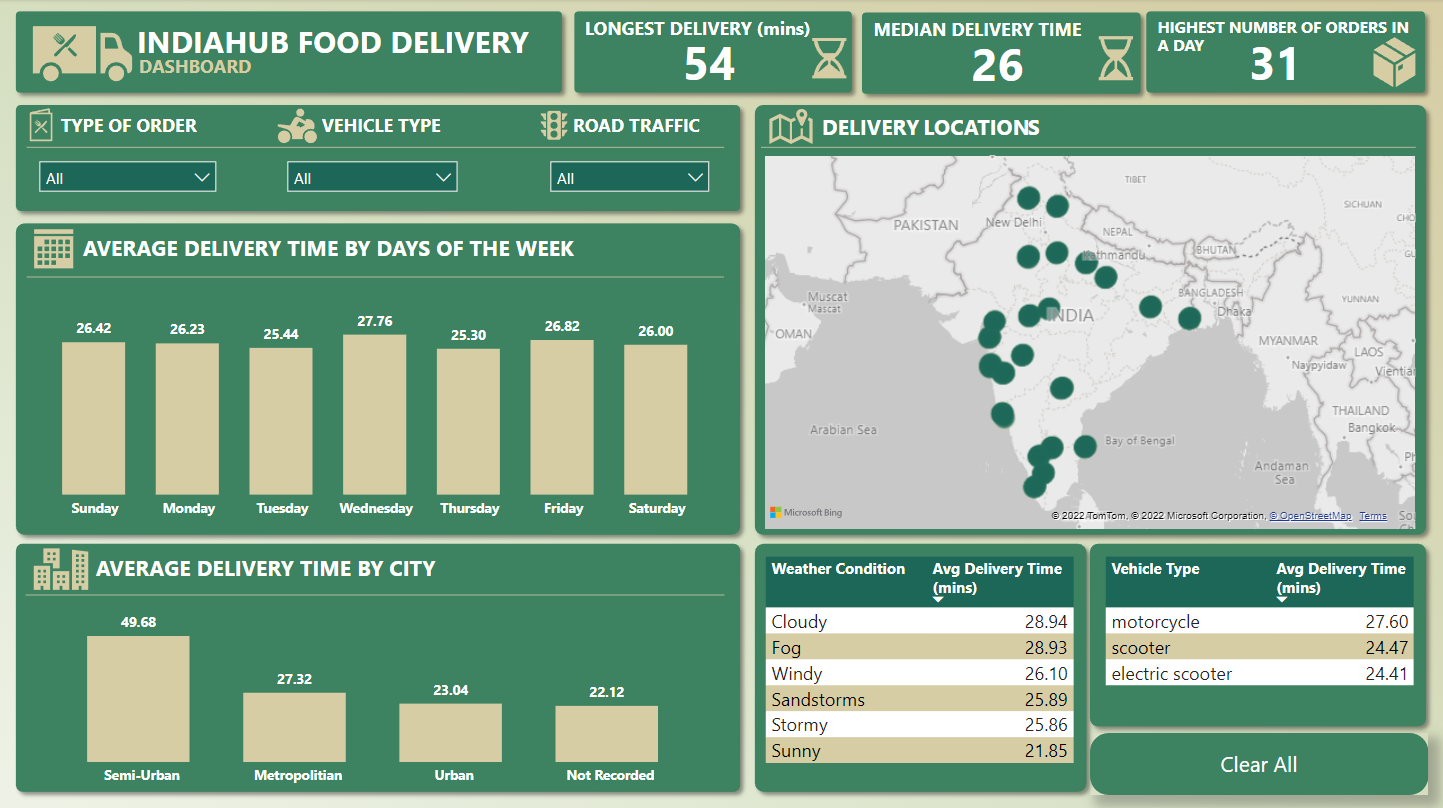

The dashboard page shown, as its layout file describes it:
{"tool":"powerbi","page":{"name":"Dashboard","canvas":[1280,720],"ordinal":0},"visuals":[{"type":"card","fields":{"Values":["delivery_statistics.median_delivery"]},"box":[849.5,31,71.8,52.3],"z":0},{"type":"map","fields":{"Y":["delivery_statistics.Delivery_location_latitude"],"X":["delivery_statistics.Delivery_location_longitude"]},"box":[673.9,133.9,587,341.4],"z":1000},{"type":"slicer","fields":{"Values":["delivery_statistics.Type_of_order"]},"box":[25.3,134.2,177,45.7],"z":2000},{"type":"columnChart","title":"Average Delivery time by Days of the Week","fields":{"Category":["delivery_statistics.Day Name"],"Y":["Avg(delivery_statistics.Time_taken)"]},"box":[17.5,246.1,633.2,222.7],"z":3000},{"type":"slicer","fields":{"Values":["delivery_statistics.Road_traffic_density"]},"box":[478.5,134.2,161.5,45.7],"z":4000},{"type":"columnChart","title":"Average Delivery Time by City","fields":{"Category":["delivery_statistics.City"],"Y":["Avg(delivery_statistics.Time_taken)"]},"box":[17.5,527.2,633.2,179],"z":5000},{"type":"tableEx","fields":{"Values":["type of bike.Type_of_vehicle","type of bike.Time taken"]},"box":[975.6,489.2,285,144],"z":6000},{"type":"tableEx","fields":{"Values":["weather condition.Weather_conditions","weather condition.Time taken"]},"box":[674,489.2,285,205.2],"z":7000},{"type":"card","fields":{"Values":["delivery_statistics.Max_delivery"]},"box":[585.5,31.1,88.5,48.6],"z":8000},{"type":"card","fields":{"Values":["delivery_statistics.Max_delivery_day"]},"box":[1082.6,31.1,98.2,49.6],"z":9000},{"type":"actionButton","box":[967.8,650.7,299.6,55.4],"z":10000},{"type":"slicer","fields":{"Values":["delivery_statistics.Type_of_vehicle"]},"box":[245.6,133.9,171.1,46.1],"z":11000}]}

Visuals, with their boxes in screenshot pixels (x1, y1, x2, y2), scaled from the page's 1280x720 canvas onto the 1443x808 screenshot:
card - delivery_statistics.median_delivery: box(958, 35, 1039, 93)
map - delivery_statistics.Delivery_location_latitude x delivery_statistics.Delivery_location_longitude: box(760, 150, 1421, 533)
slicer - delivery_statistics.Type_of_order: box(29, 151, 228, 202)
"Average Delivery time by Days of the Week" columnChart: box(20, 276, 734, 526)
slicer - delivery_statistics.Road_traffic_density: box(539, 151, 722, 202)
"Average Delivery Time by City" columnChart: box(20, 592, 734, 793)
tableEx - type of bike.Type_of_vehicle x type of bike.Time taken: box(1100, 549, 1421, 711)
tableEx - weather condition.Weather_conditions x weather condition.Time taken: box(760, 549, 1081, 779)
card - delivery_statistics.Max_delivery: box(660, 35, 760, 89)
card - delivery_statistics.Max_delivery_day: box(1220, 35, 1331, 91)
actionButton: box(1091, 730, 1429, 792)
slicer - delivery_statistics.Type_of_vehicle: box(277, 150, 470, 202)
